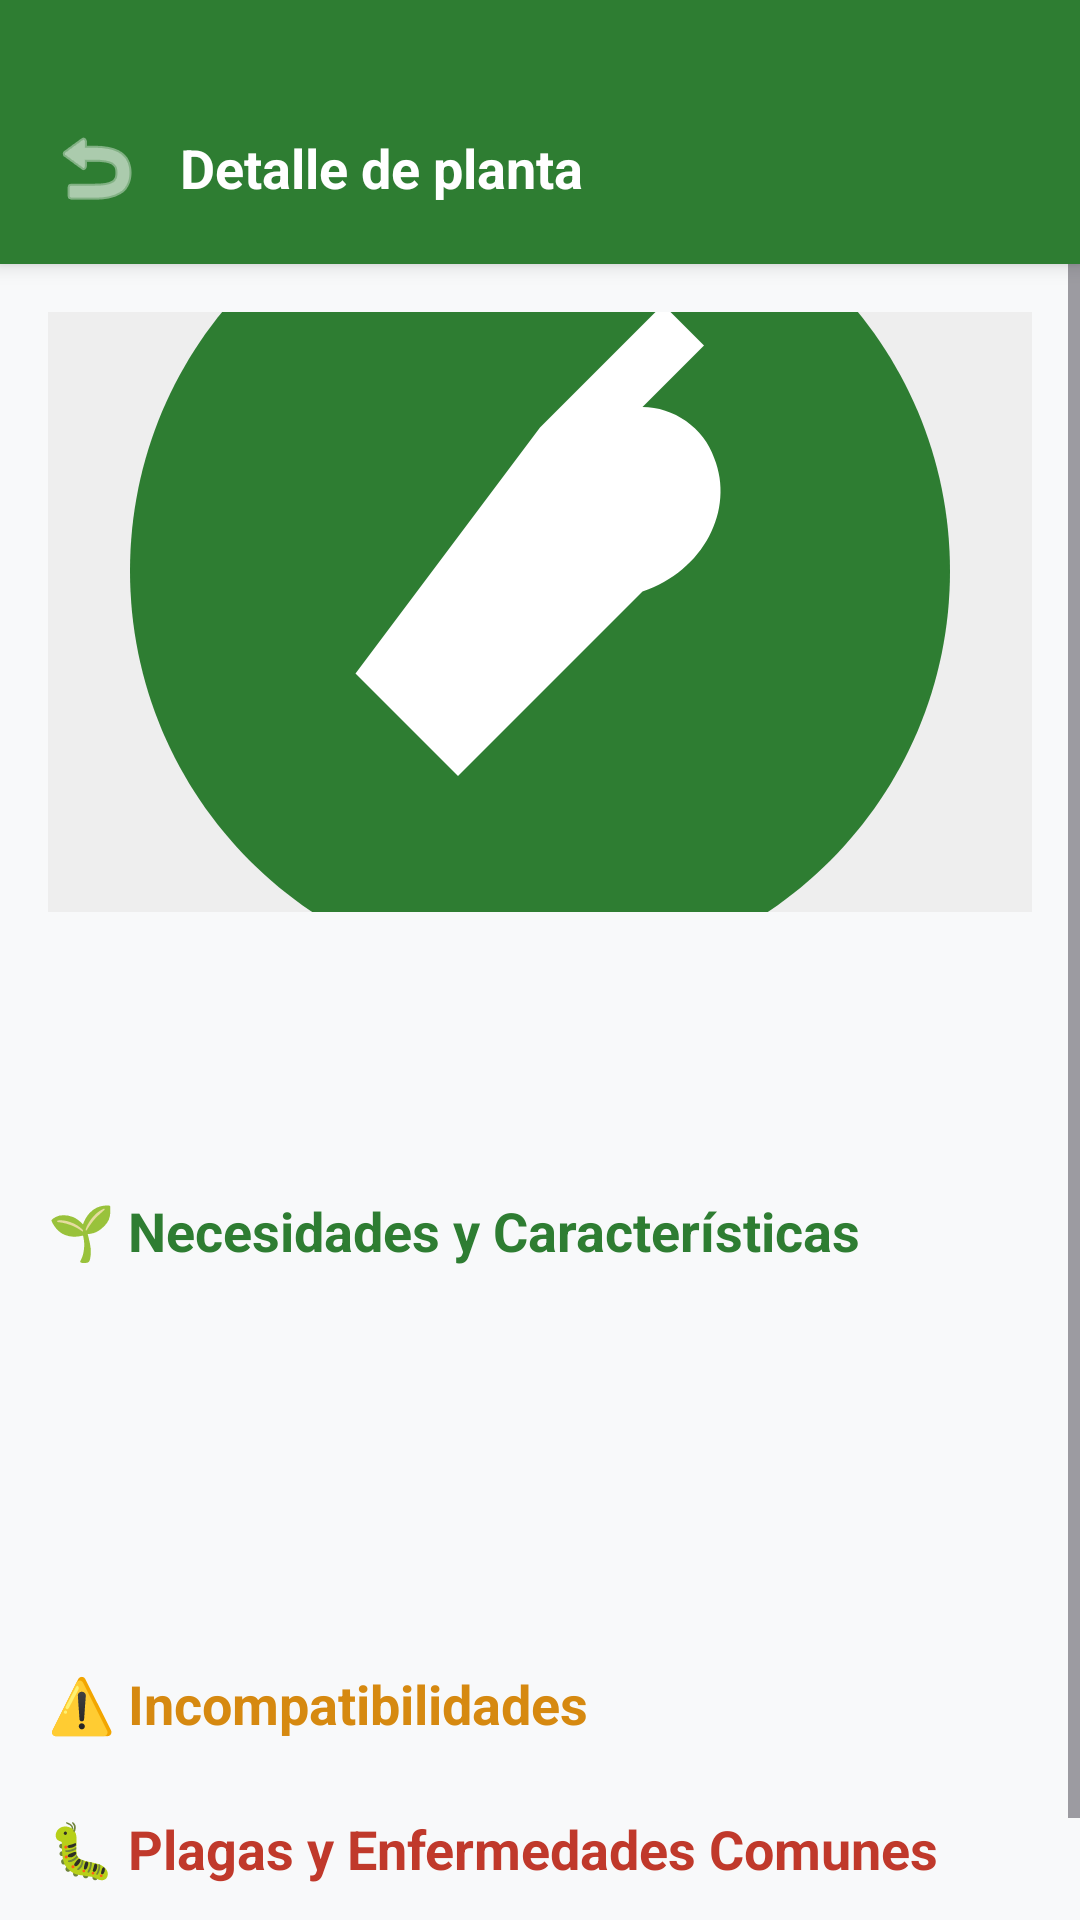

Screen size 1080px x 1920px. Icon name, then its center in pixels as (x=x, y=y):
Volver: (x=97, y=168)
